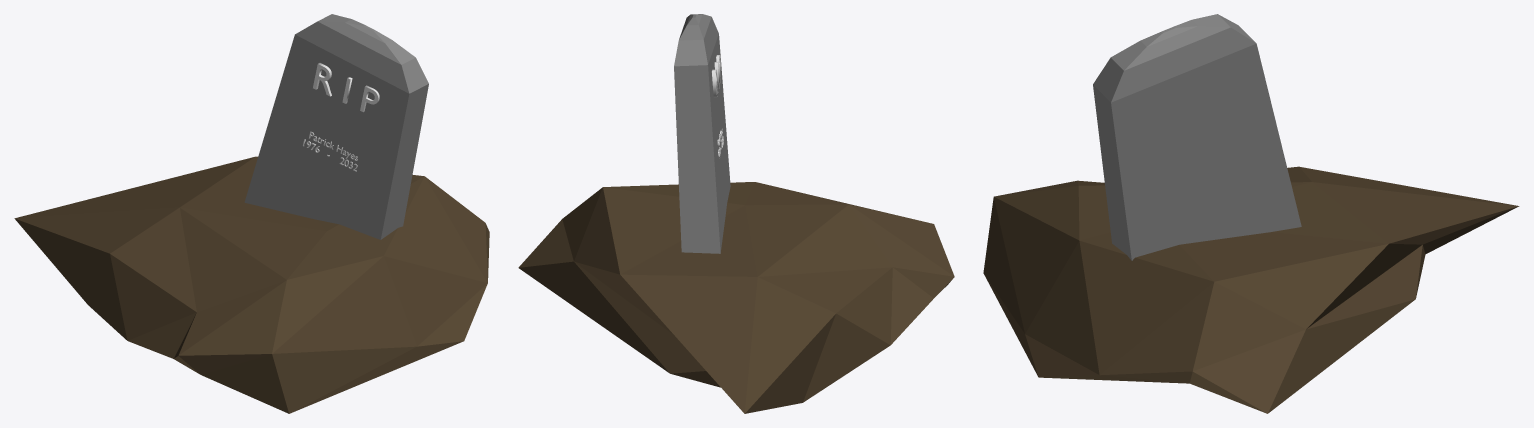
File: patrickTombstone.fbx
3 renders of one model, left to right at view 1: azimuth 30°, elevation 25°; view 2: azimuth 150°, elevation 25°; view 3: azimuth 270°, elevation 25°, orthographic. The views are drawn at different scales.
Parts seen in each view (by area): view 1: PATRICK, Text.002; view 2: PATRICK; view 3: PATRICK.
Part boxes in pixels (x1=…): PATRICK: x1=14, y1=14, x2=489, y2=413; Text.002: x1=313, y1=63, x2=379, y2=112; PATRICK: x1=518, y1=14, x2=954, y2=413; PATRICK: x1=983, y1=14, x2=1519, y2=413.
Size of the model in its own units: 236 by 178 by 255.
